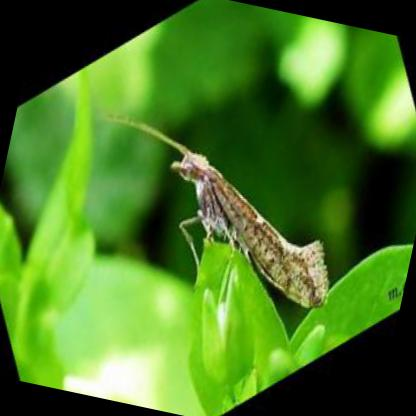plutella: (89, 108, 330, 310)
